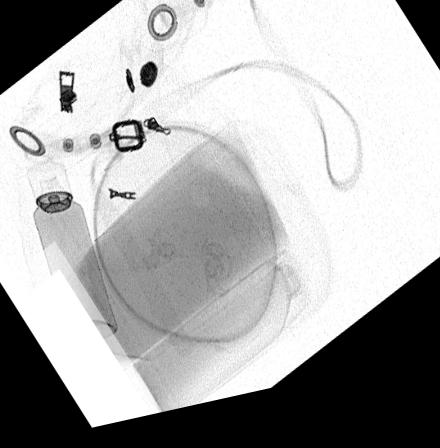Sprayer: (27, 163, 117, 348)
